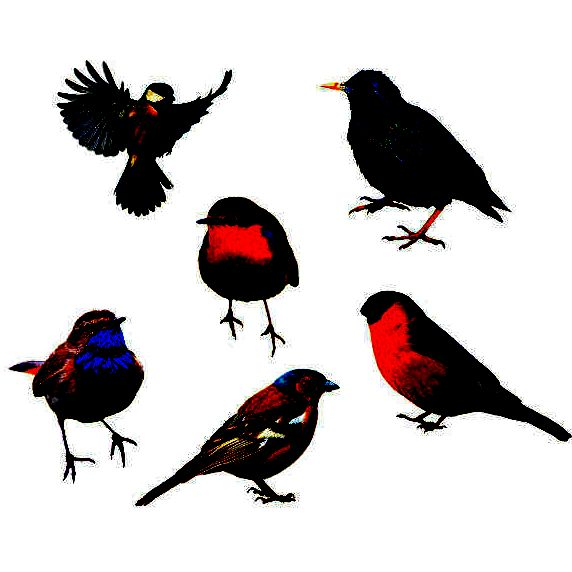Bird: (314, 66, 515, 254), (355, 287, 572, 450), (131, 362, 340, 516), (52, 56, 235, 222), (0, 305, 148, 485), (189, 193, 304, 359)
